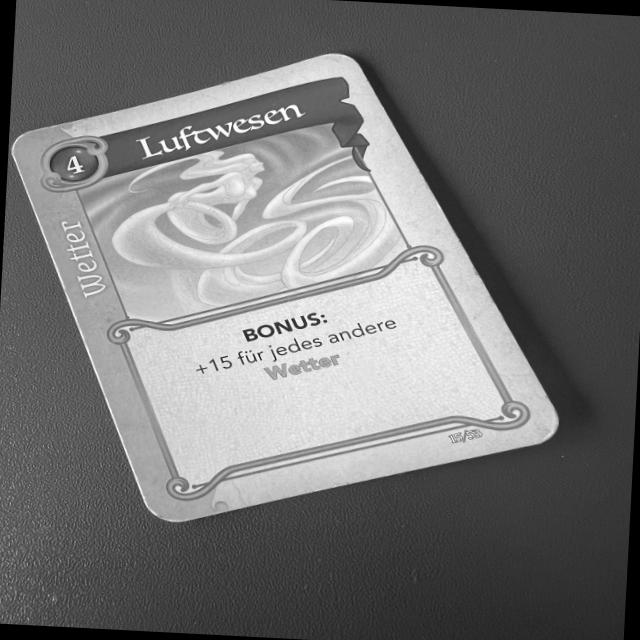Air Elemental: (13, 47, 571, 530)
